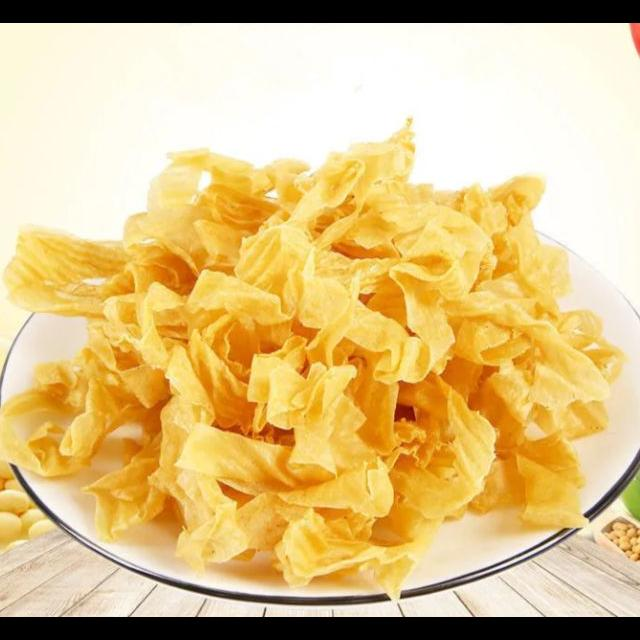food_waste: (65, 190, 532, 483)
